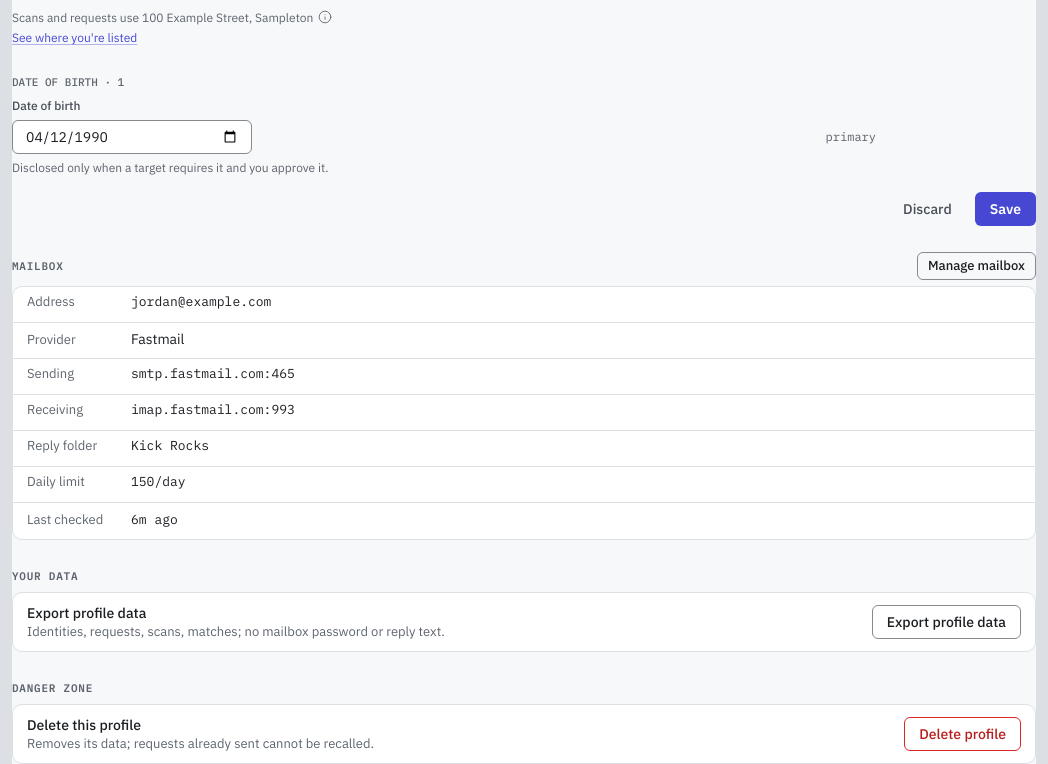
it: exporting a profile › saves the profile's data as a JSON file named for it
(page scrolled)
What coordinates should you click on to do the following:
click the button "Export profile data"
I would click on:
 (946, 622)
Its box is x1=872 y1=605 x2=1021 y2=639.
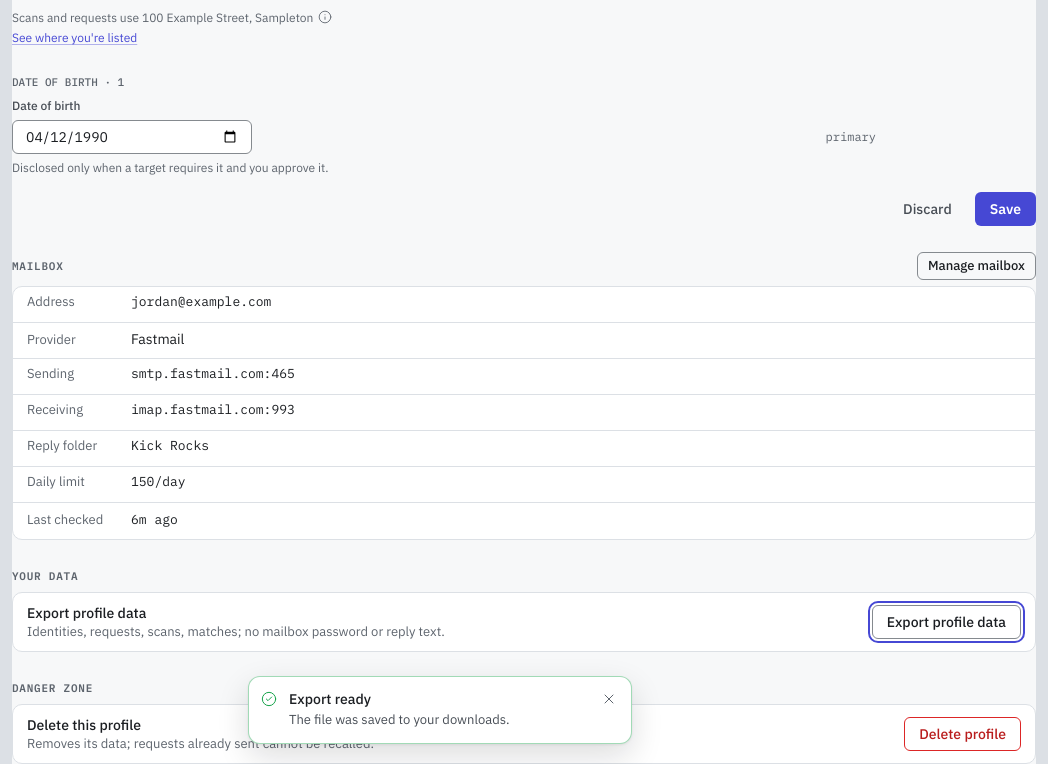
Expected: the text "Export ready" is shown, x1=289 y1=690 x2=371 y2=708
